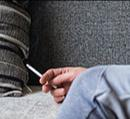Cigarette: (25, 62, 56, 88)
